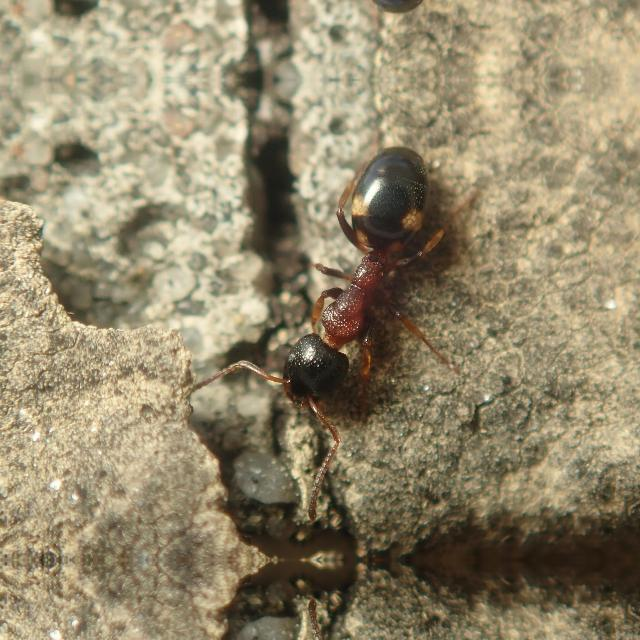Dolichoderus: (236, 123, 479, 425)
